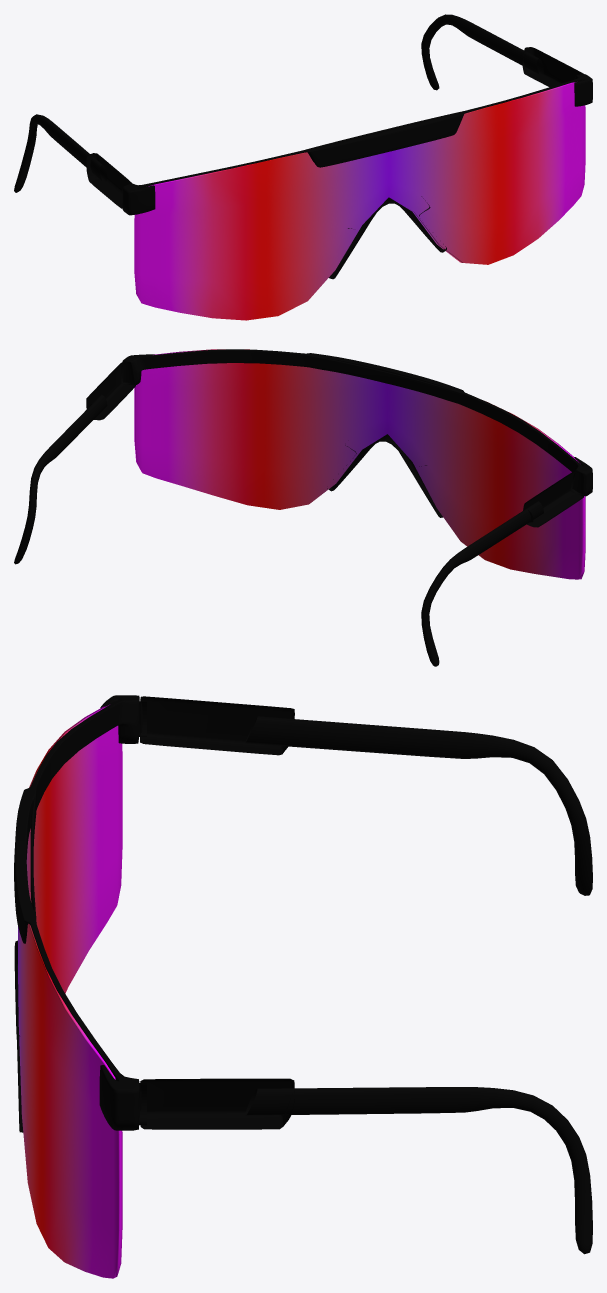
Rendered from Viper Purple.glb.
3 renders of one model, top to bottom at view 1: azimuth 30°, elevation 25°; view 2: azimuth 150°, elevation 25°; view 3: azimuth 270°, elevation 25°, orthographic. The views are drawn at different scales.
Parts seen in each view (by area): view 1: Object_5.002; view 2: Object_5.002; view 3: Object_5.002.
Part boxes in pixels (bbox=[...]): Object_5.002: bbox=[14, 14, 592, 320]; Object_5.002: bbox=[14, 349, 592, 666]; Object_5.002: bbox=[14, 695, 592, 1278].
Size of the model in its own units: 0.5484 by 0.1823 by 0.3388.
2 materials, 1 textured.
